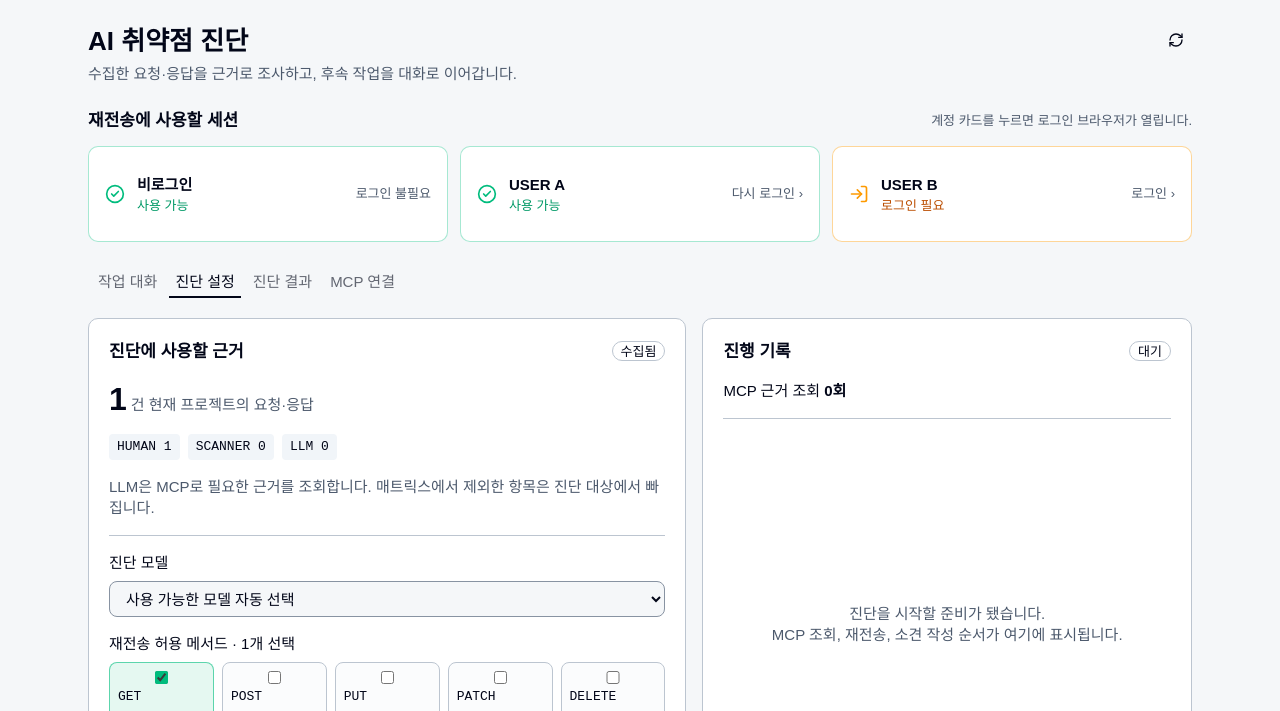
allows several replay methods independently
expect the button with aria-label "USER A 다시 로그인" is shown: met, box [460,146,820,242]
expect the checkbox labelled "GET" is checked: met, box [118,672,205,684]
Click the checkbox labelled "POST": click(274, 678) [231,672,318,684]
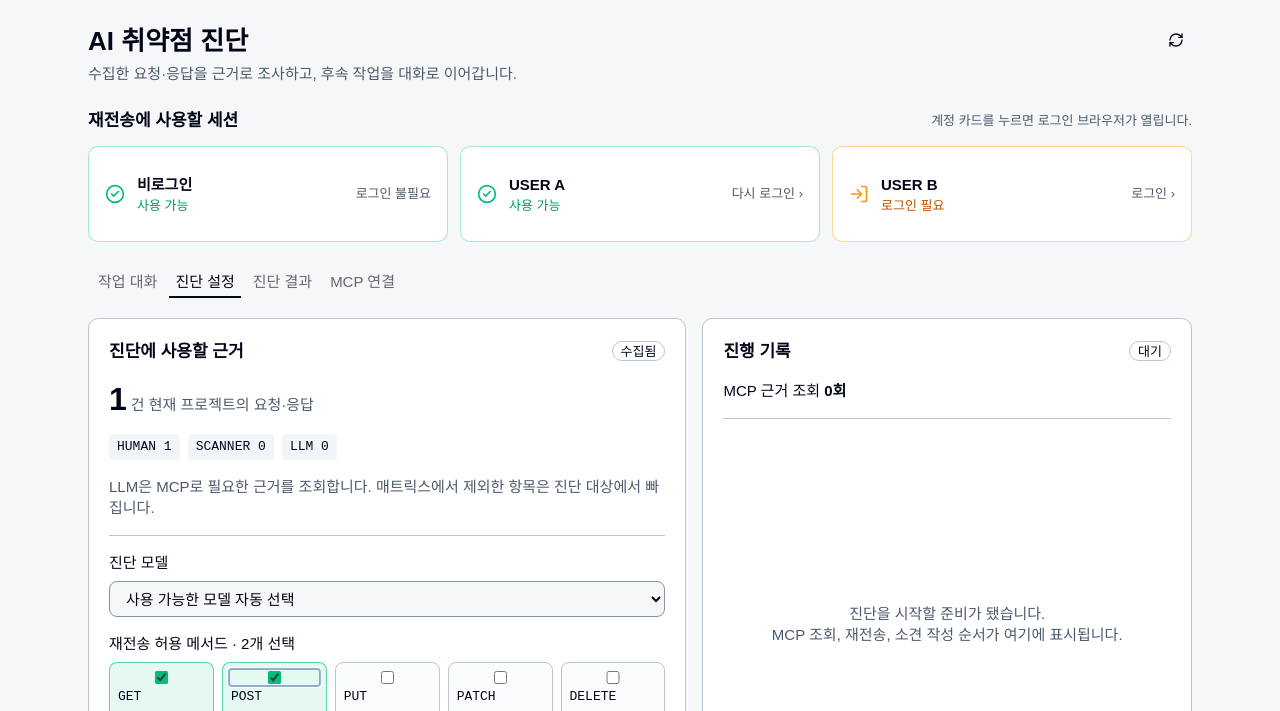
expect the checkbox labelled "POST" is checked: met, box [231,672,318,684]
Click the checkbox labelled "PUT": click(387, 678) [344,672,431,684]
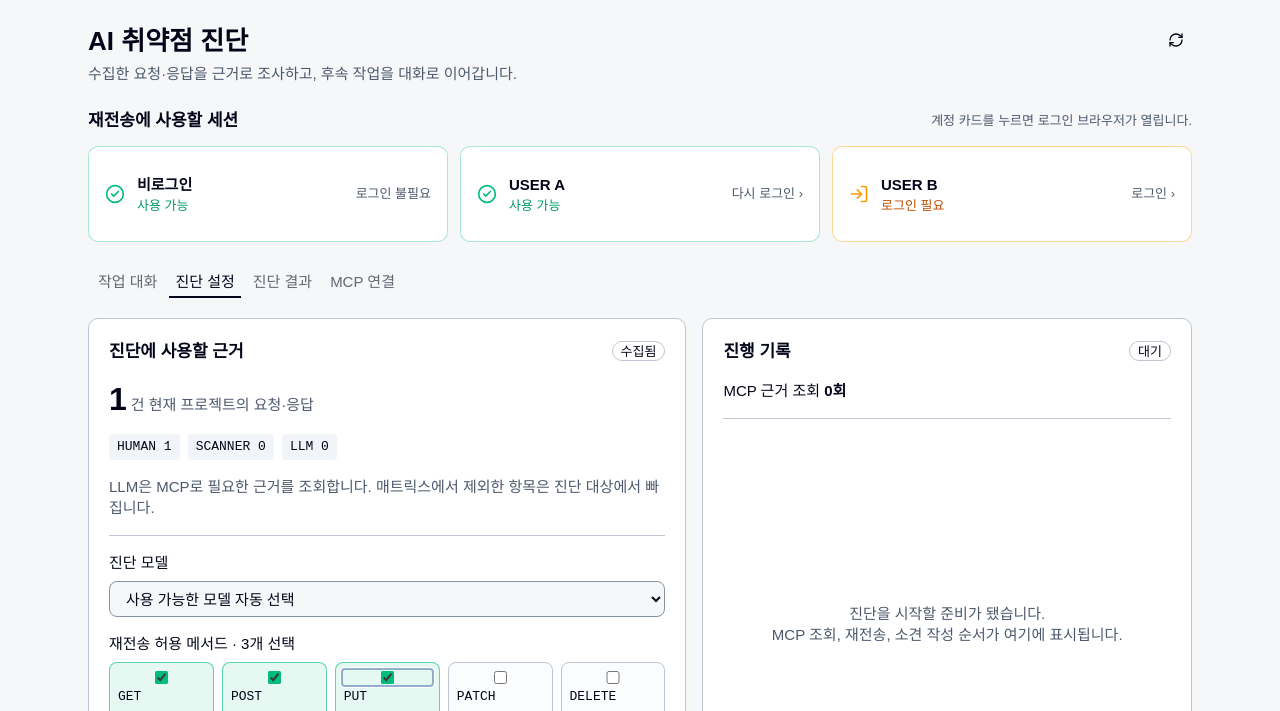
expect the checkbox labelled "PUT" is checked: met, box [344,672,431,684]
Click the checkbox labelled "PATCH": click(500, 678) [457,672,544,684]
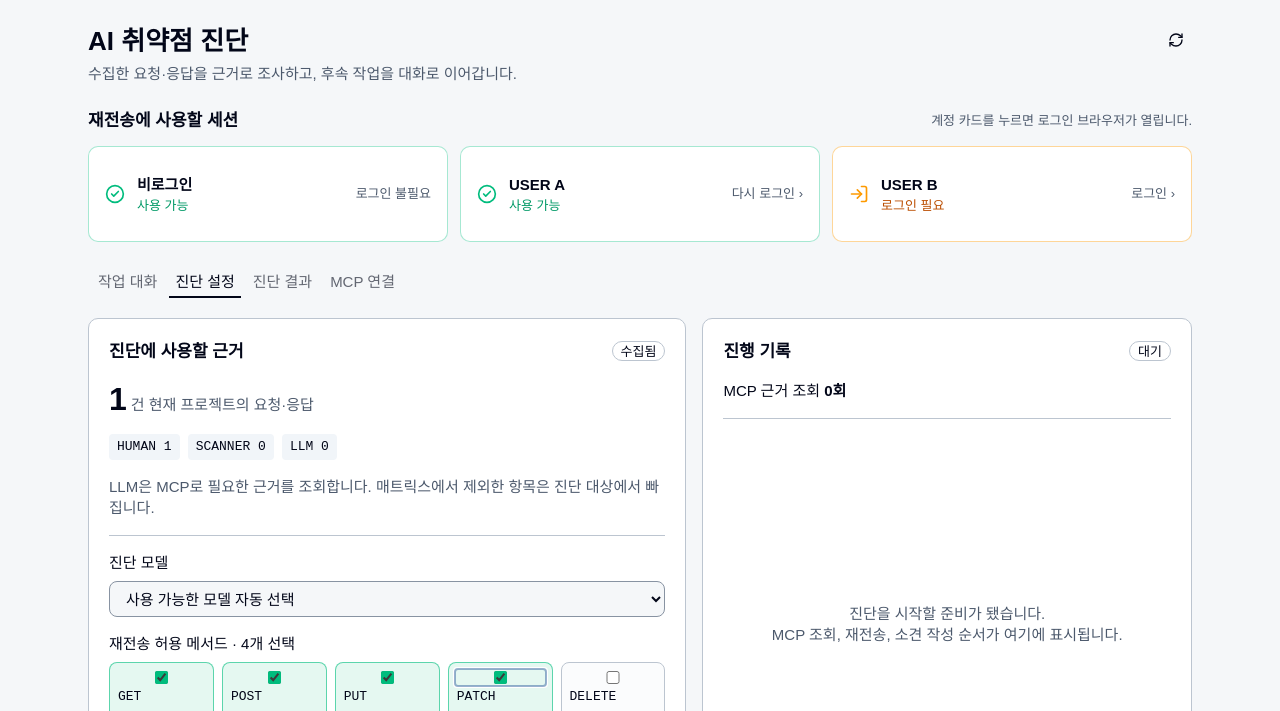
expect the checkbox labelled "PATCH" is checked: met, box [457,672,544,684]
Click the checkbox labelled "DELETE": click(613, 678) [570,672,656,684]
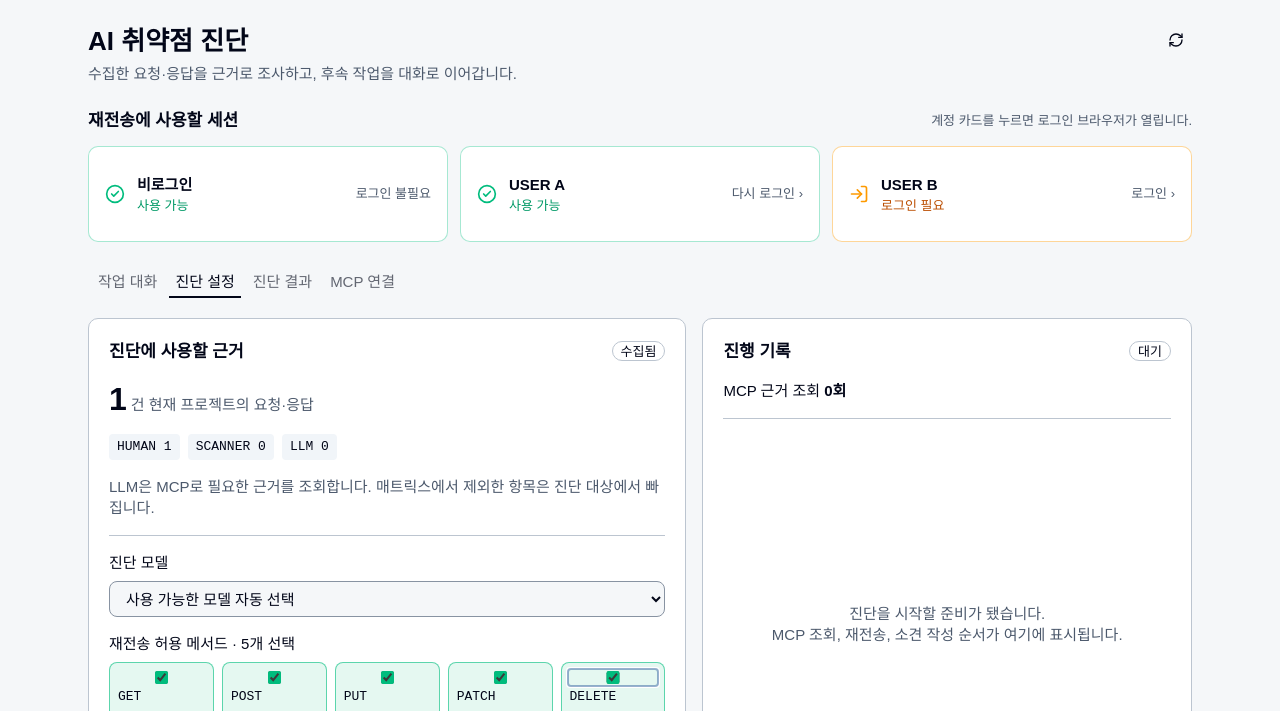
expect the checkbox labelled "DELETE" is checked: met, box [570,672,656,684]
expect the heading "재전송 허용 메서드 · 5개 선택" is shown: met, box [109,635,295,652]
